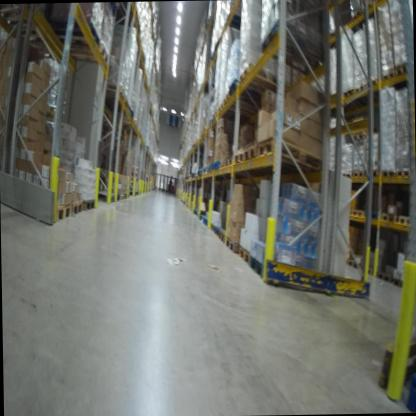pallet: (83, 78, 125, 216), (260, 30, 331, 74), (257, 137, 324, 174), (239, 61, 299, 97), (43, 12, 102, 47), (44, 35, 110, 66), (223, 90, 265, 119), (228, 79, 268, 108), (339, 82, 365, 107), (353, 83, 378, 107), (249, 250, 266, 282), (351, 207, 382, 222), (242, 143, 261, 166), (52, 198, 71, 221), (69, 198, 85, 218), (237, 244, 250, 267), (364, 75, 380, 93), (393, 63, 408, 81), (226, 235, 239, 254), (380, 211, 397, 225), (378, 165, 396, 177), (381, 68, 395, 83), (232, 149, 244, 166), (397, 211, 410, 225), (217, 228, 229, 243), (396, 164, 408, 177), (351, 131, 368, 140), (217, 156, 229, 168), (351, 168, 364, 178), (365, 168, 378, 177), (213, 159, 222, 170), (213, 226, 222, 236), (224, 157, 232, 168)
